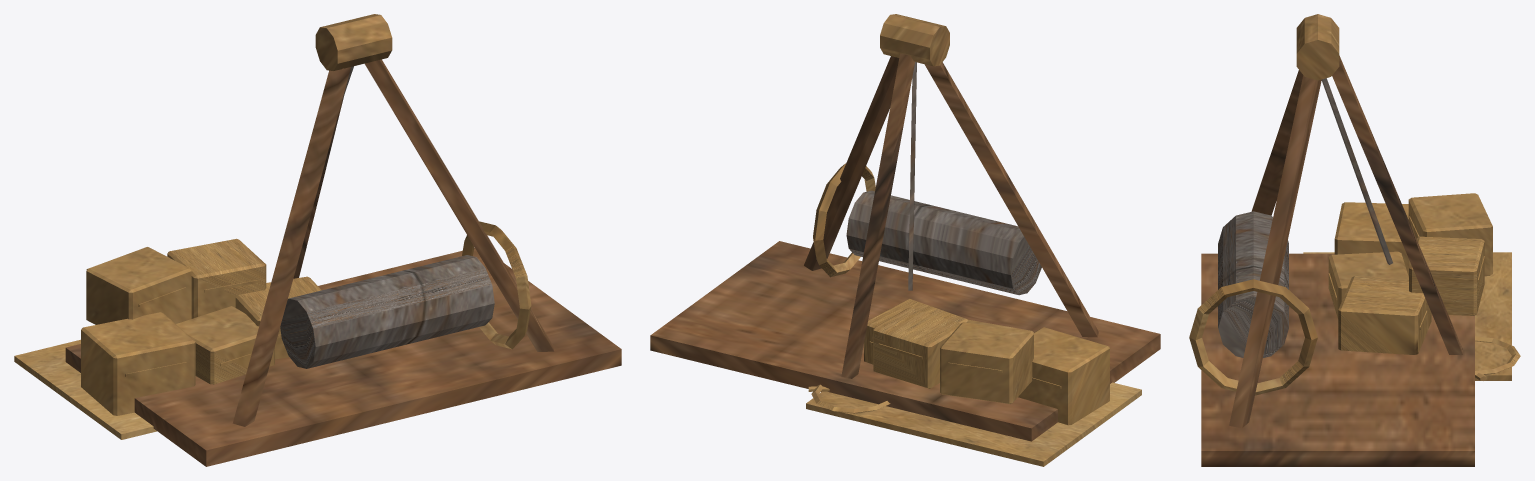
The model's file is ice-quarry-hoist.glb.
The picture shows the model from 3 angles, left to right: view 1: azimuth 30°, elevation 25°; view 2: azimuth 150°, elevation 25°; view 3: azimuth 270°, elevation 25°; orthographic projection. The views are drawn at different scales.
Visible parts, largest first — view 1: ice-quarry-hoist; view 2: ice-quarry-hoist; view 3: ice-quarry-hoist.
Part boxes in pixels (x1,y1,x2,y2): ice-quarry-hoist: (14,14,621,466); ice-quarry-hoist: (650,14,1160,466); ice-quarry-hoist: (1189,14,1520,466).
Size of the model in its own units: 6.25 by 4.73 by 4.12.
Materials: 1 (1 with a texture image).
